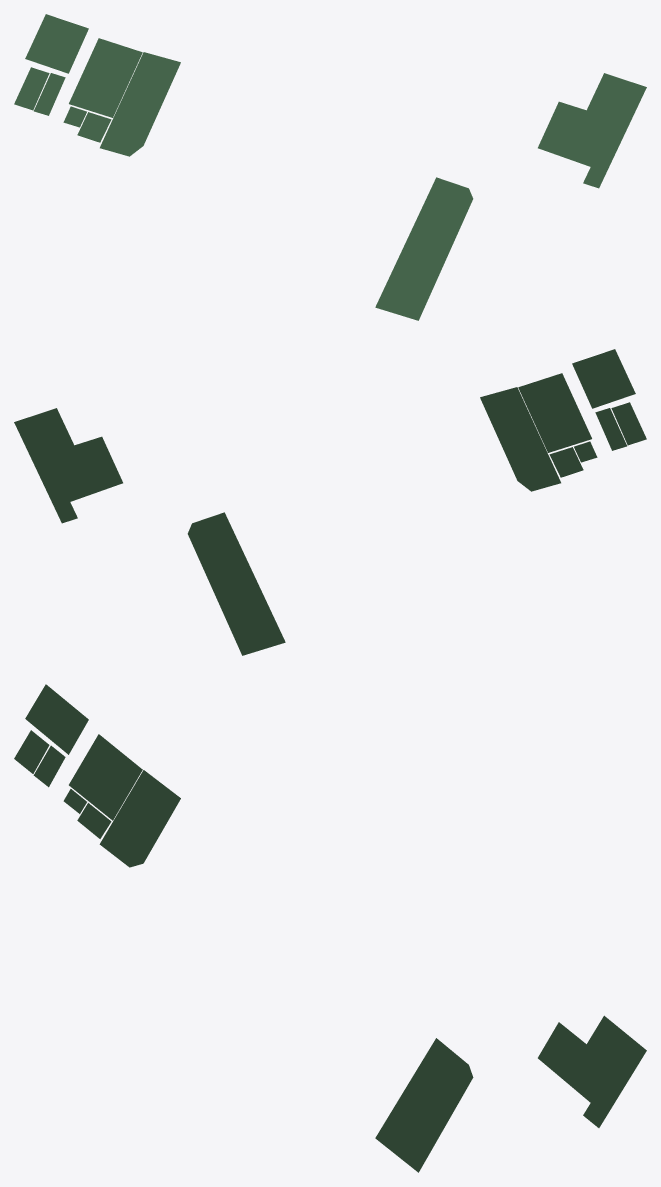
The model's file is green_areas.obj.
3 renders of one model, top to bottom at view 1: azimuth 30°, elevation 25°; view 2: azimuth 150°, elevation 25°; view 3: azimuth 330°, elevation 25°, orthographic.
Visible parts, largest first — view 1: xian_bowen_dense_city_green_areas; view 2: xian_bowen_dense_city_green_areas; view 3: xian_bowen_dense_city_green_areas.
Boxes of the visible parts, x1,y1,x2,y2 form: xian_bowen_dense_city_green_areas: [14, 14, 646, 320]; xian_bowen_dense_city_green_areas: [14, 349, 646, 655]; xian_bowen_dense_city_green_areas: [14, 684, 646, 1172].
Bounding box in the file's own units: 682 × 409 × 0.
